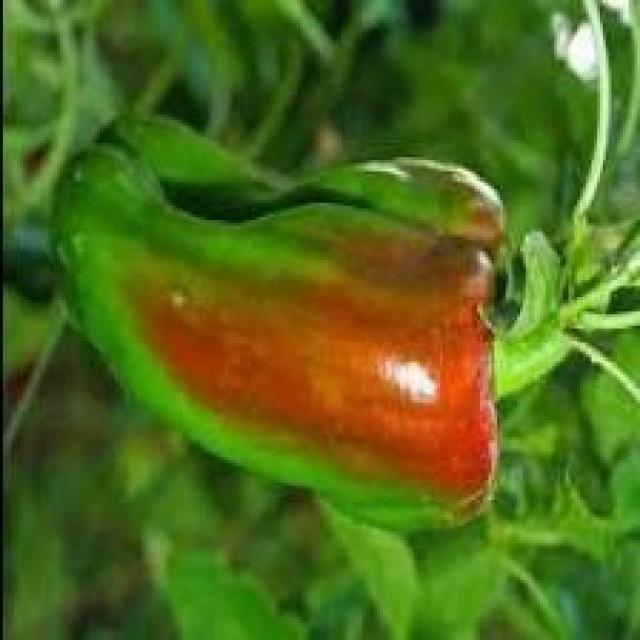Pepper: (49, 114, 517, 540)
